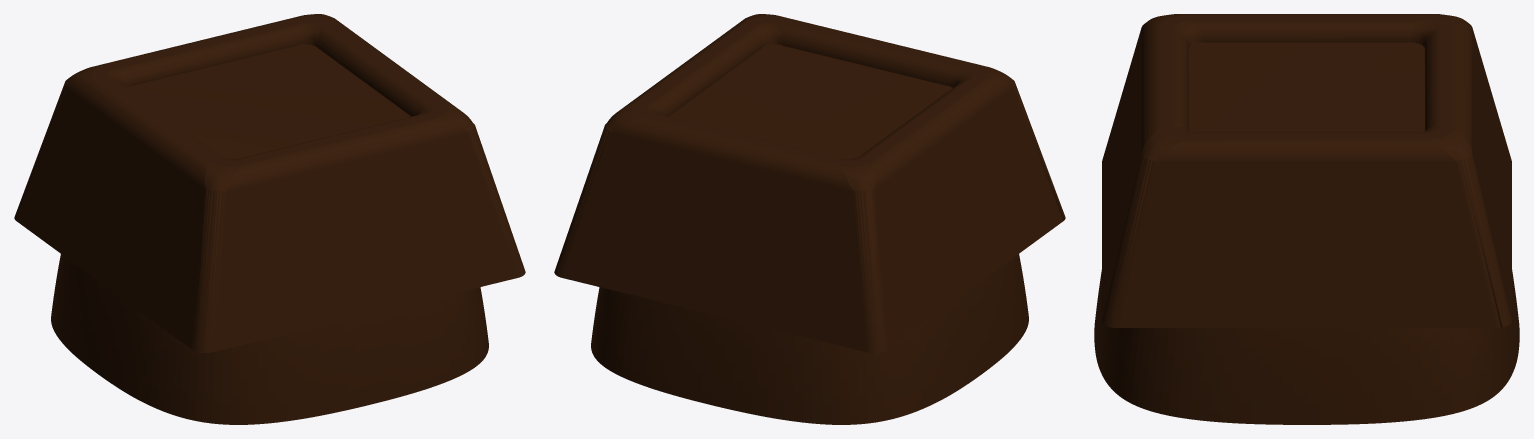
The model's file is keycap_CHOCOLATE.glb.
The picture shows the model from 3 angles, left to right: view 1: azimuth 30°, elevation 25°; view 2: azimuth 150°, elevation 25°; view 3: azimuth 270°, elevation 25°; orthographic projection. The views are drawn at different scales.
Parts seen in each view (by area): view 1: keycap_Chocolate; view 2: keycap_Chocolate; view 3: keycap_Chocolate.
Part boxes in pixels (x1=…): keycap_Chocolate: x1=14, y1=14, x2=525, y2=424; keycap_Chocolate: x1=554, y1=14, x2=1065, y2=424; keycap_Chocolate: x1=1094, y1=14, x2=1519, y2=424.
Bounding box in the file's own units: 19.16 × 12.81 × 19.16.
